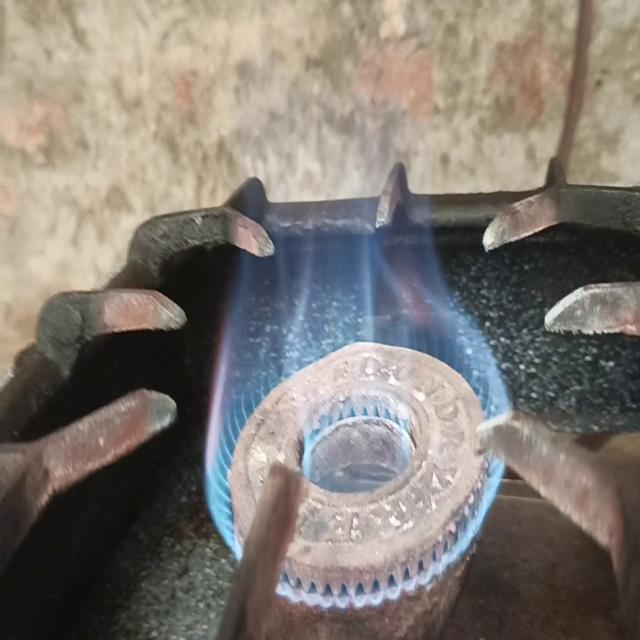Fire: (199, 245, 486, 454), (308, 495, 472, 612), (195, 461, 247, 537)
